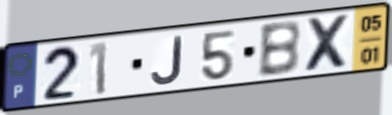1: (88, 39, 110, 97)
2: (38, 41, 85, 106)
5: (200, 27, 238, 81)
B: (256, 18, 303, 79)
J: (149, 34, 185, 86)
X: (302, 12, 353, 74)
